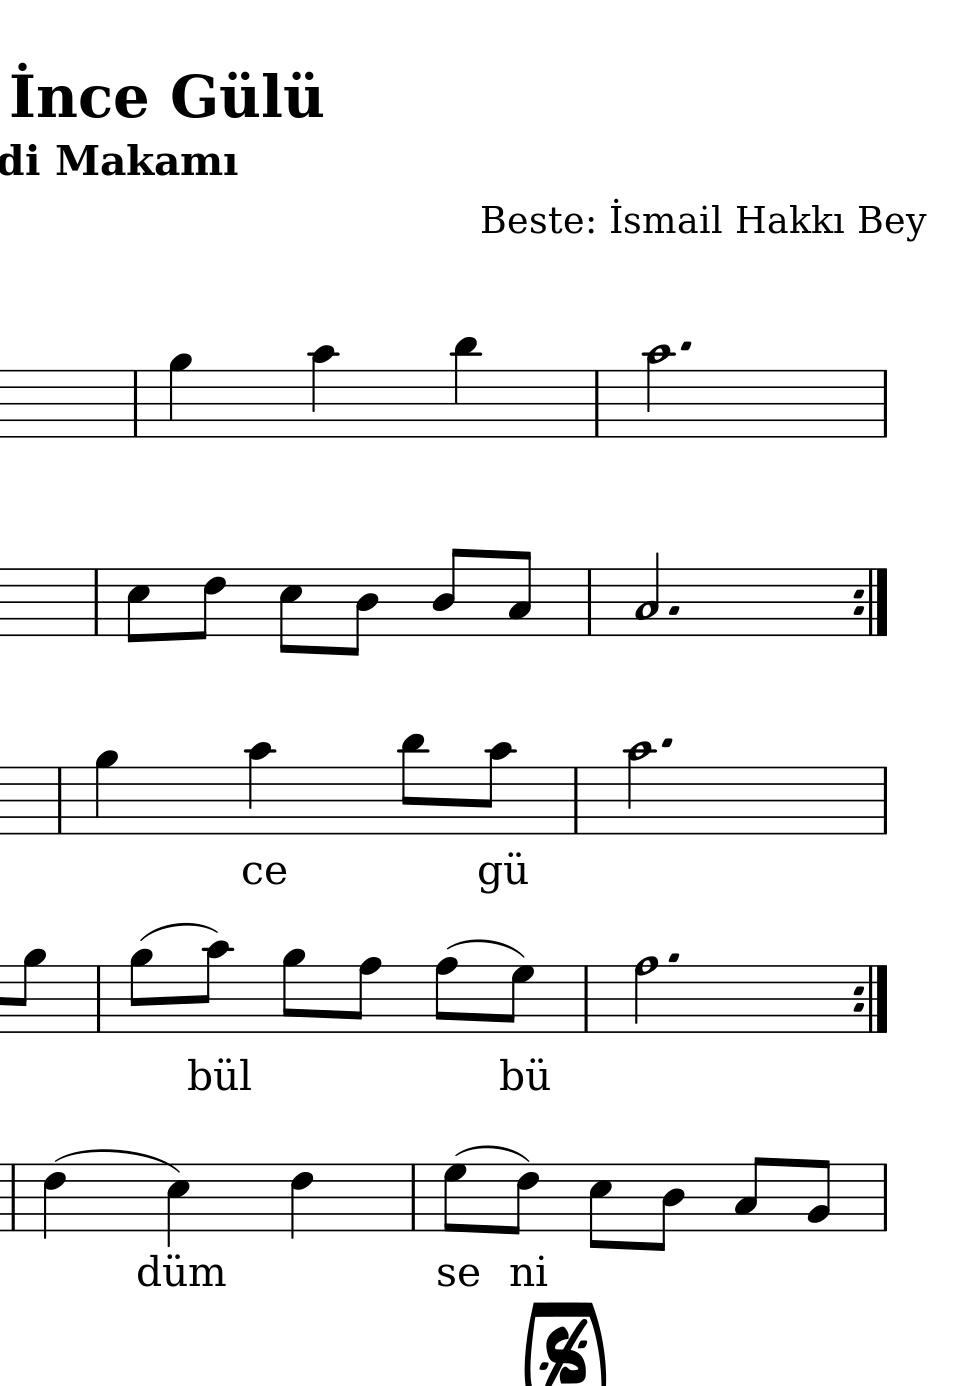2_10: (642, 343, 672, 441), (623, 740, 652, 838)
2_3: (634, 551, 661, 637)
2_8: (632, 954, 658, 1035)
4_10: (308, 343, 337, 439), (246, 739, 274, 837)
4_11: (450, 335, 479, 439)
4_5: (164, 1162, 190, 1246)
4_6: (288, 1162, 314, 1241), (41, 1162, 67, 1240)
4_9: (168, 352, 194, 440), (93, 748, 119, 837)
8_10: (475, 741, 514, 836), (193, 938, 231, 1035)
8_11: (398, 731, 427, 836)
8_2: (804, 1157, 832, 1234)
8_3: (732, 1155, 767, 1233), (506, 549, 533, 639)
8_4: (650, 1162, 685, 1253), (345, 567, 380, 657), (430, 546, 463, 637)
8_5: (277, 566, 303, 656), (587, 1162, 613, 1251), (124, 566, 151, 646)
8_6: (191, 566, 227, 642), (505, 1162, 539, 1236)
8_7: (501, 964, 533, 1034), (441, 1162, 467, 1235)
8_8: (348, 955, 381, 1035), (432, 957, 458, 1035)
8_9: (12, 947, 46, 1035), (127, 947, 153, 1036), (280, 948, 305, 1034)
RightRepeatSign: (851, 567, 889, 637), (851, 964, 889, 1033)
Segno: (537, 1318, 593, 1383)
Single_barline: (875, 767, 894, 834), (404, 1164, 423, 1231), (580, 568, 598, 635), (588, 371, 606, 436), (876, 370, 893, 437), (87, 569, 104, 635), (567, 768, 584, 834), (577, 966, 594, 1031), (5, 1164, 21, 1231), (877, 1164, 893, 1231), (127, 370, 143, 436), (90, 967, 106, 1031), (52, 767, 67, 834)
Slur: (57, 1148, 179, 1179), (453, 1143, 527, 1166), (137, 923, 217, 942), (447, 938, 525, 958)
dot: (678, 338, 694, 355), (659, 736, 673, 751), (665, 603, 680, 617)
